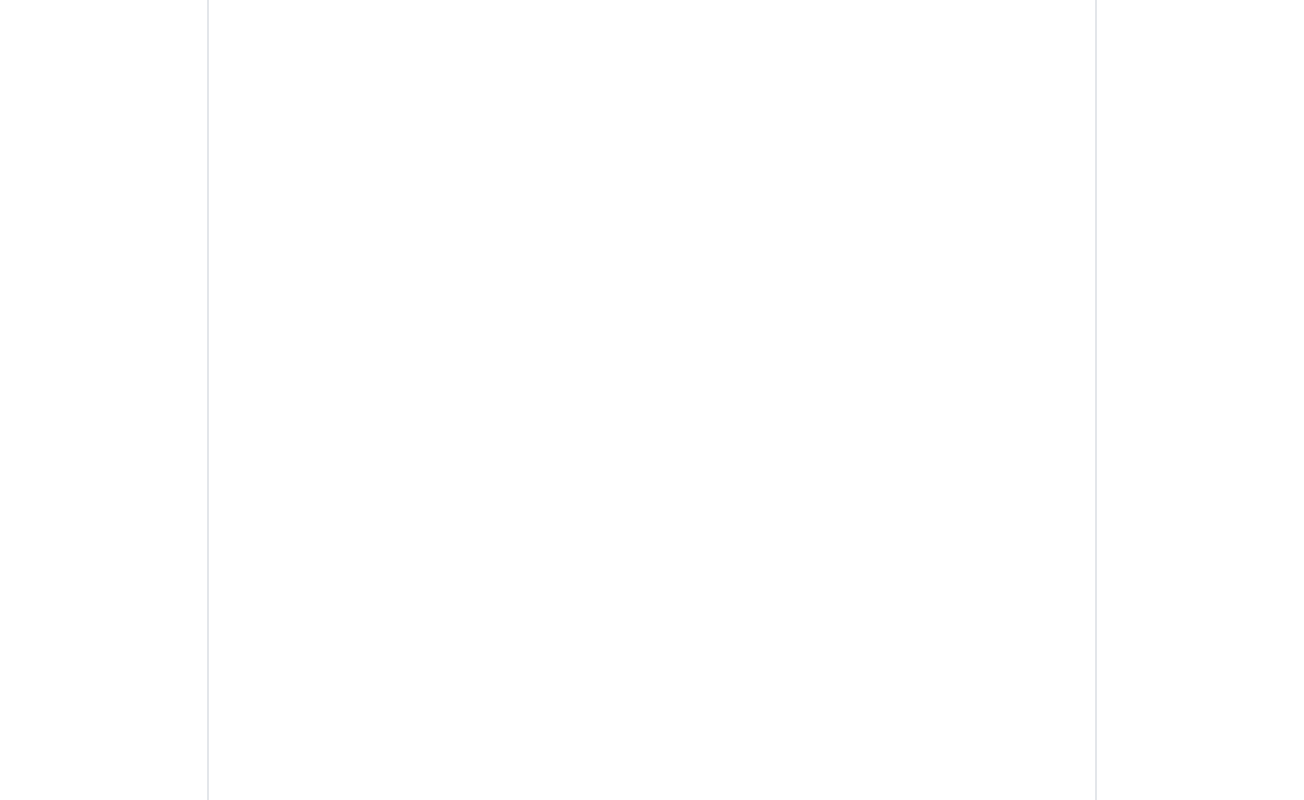
Revision Notes › Ctrl+F puts the cursor in the search box, and the matches are counted
The width and height of the screenshot is (1304, 800).
(page scrolled)
Press f
(page scrolled)
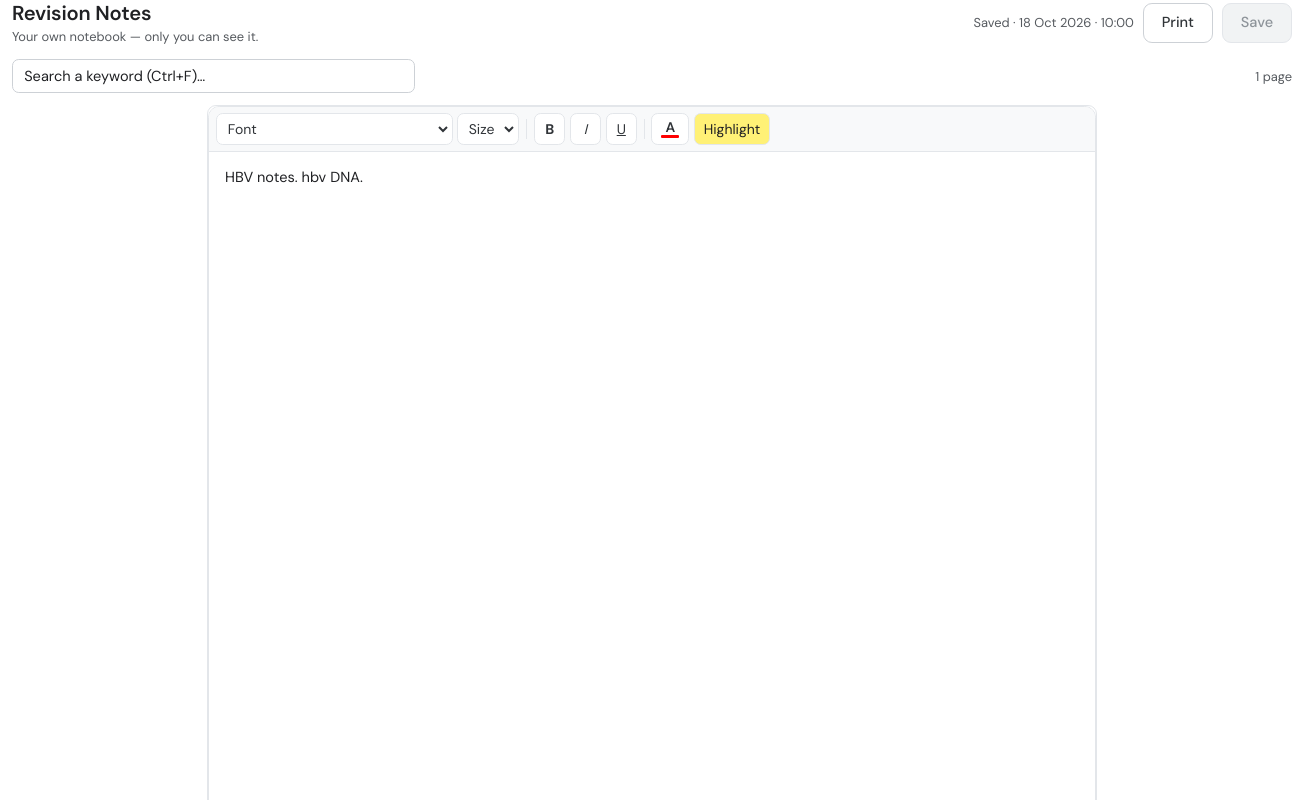
Type "hbv" into the search field named "Search in Revision Notes" at (214, 76), box [12,59,415,93]
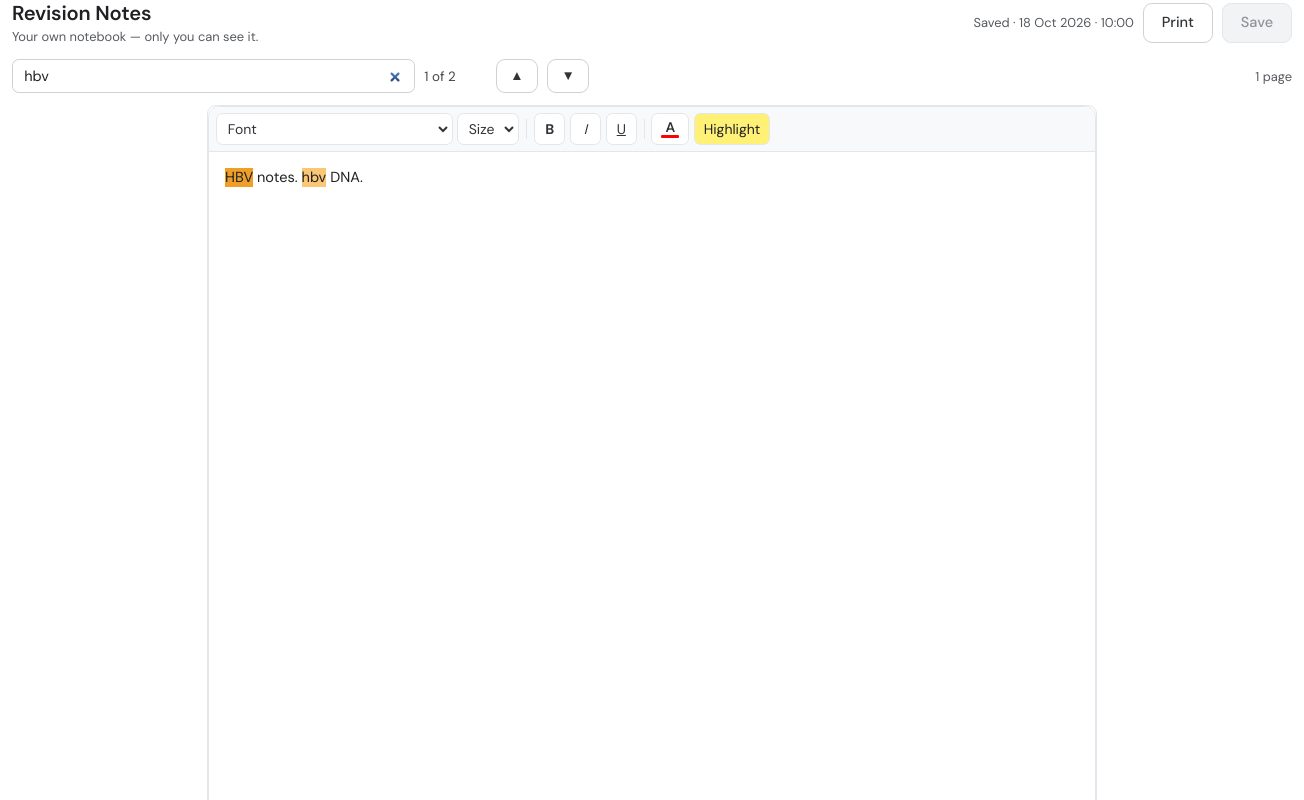
Expected: the text "1 of 2" is shown, [424,68,456,85]
Press Enter in the search field named "Search in Revision Notes", box [12,59,415,93]
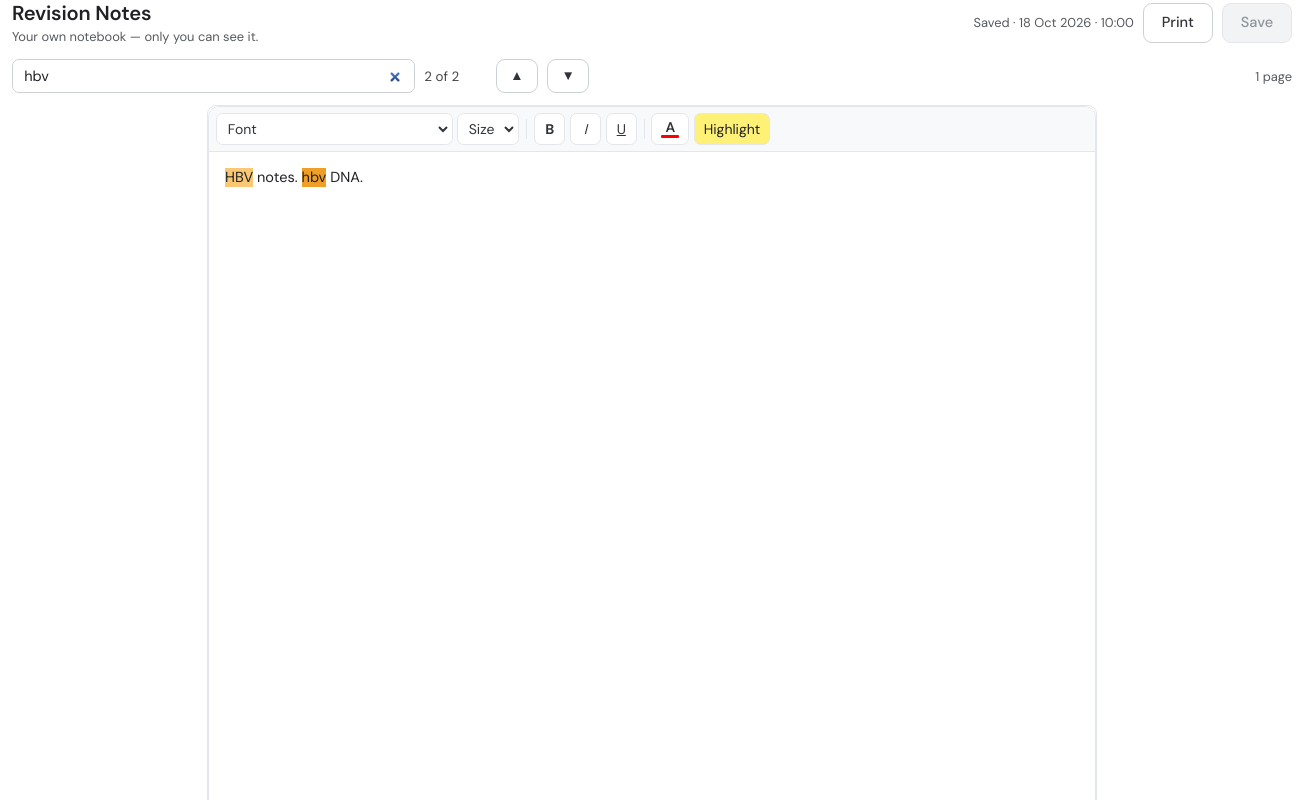
Expected: the text "2 of 2" is shown, [424,68,459,85]
Press Enter in the search field named "Search in Revision Notes", box [12,59,415,93]
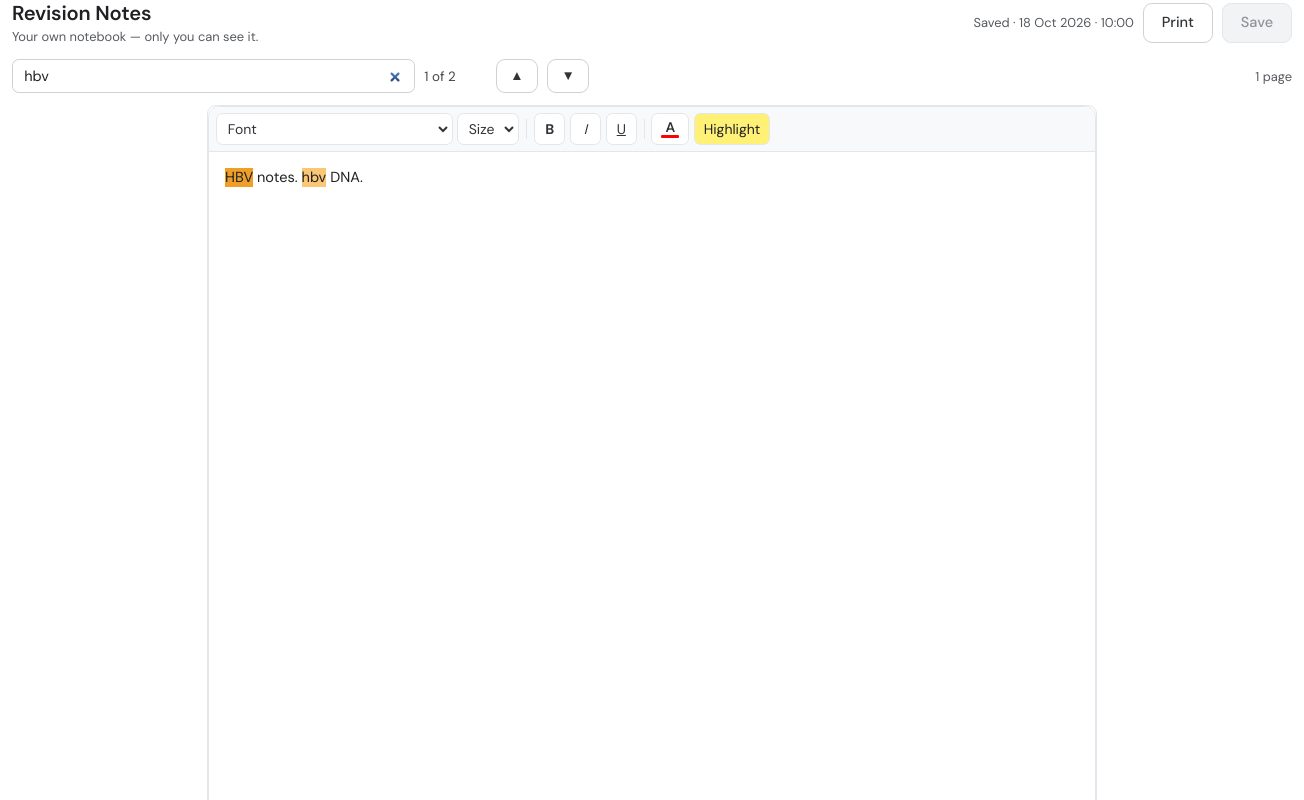
Expected: the text "1 of 2" is shown, [424,68,456,85]
Replace the text in the search field named "Search in Revision Notes" with "zzz" at (214, 76), box [12,59,415,93]
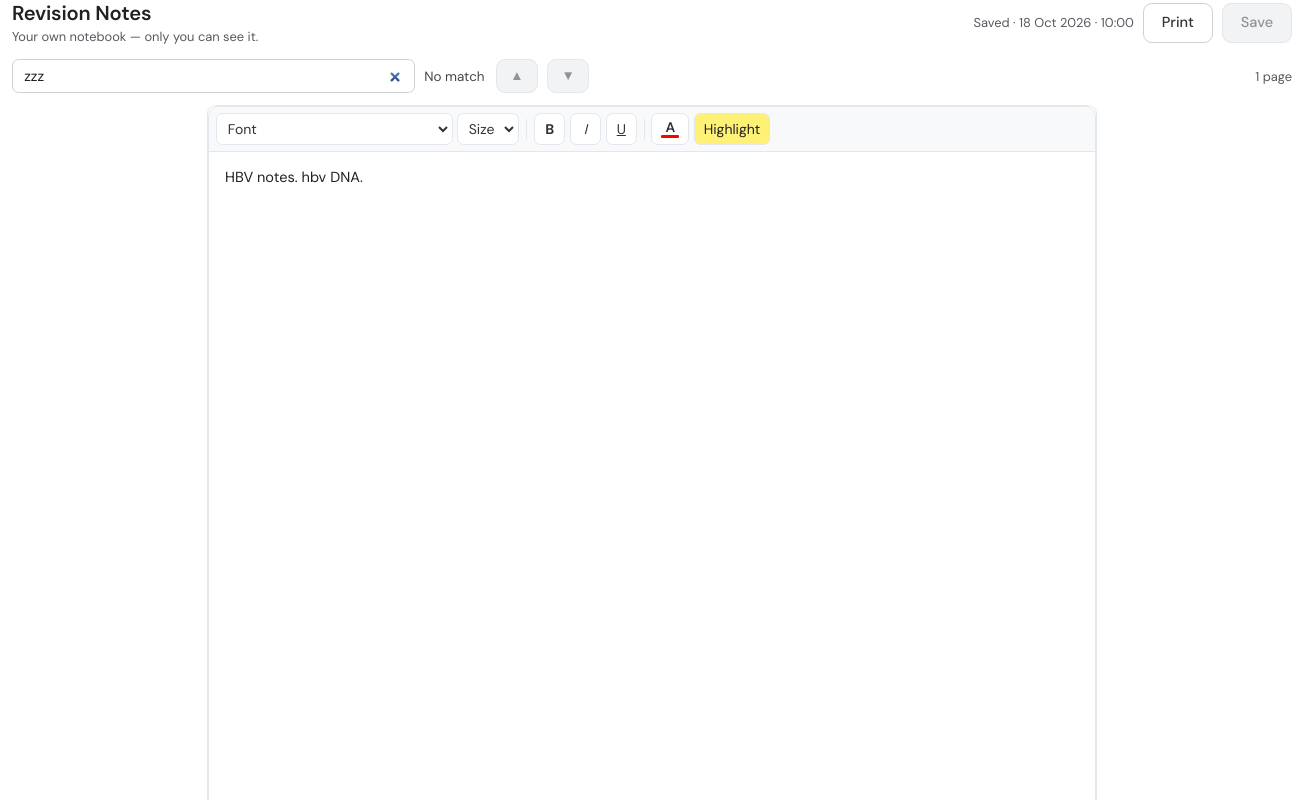
Expected: the text "No match" is shown, [424,68,487,85]
